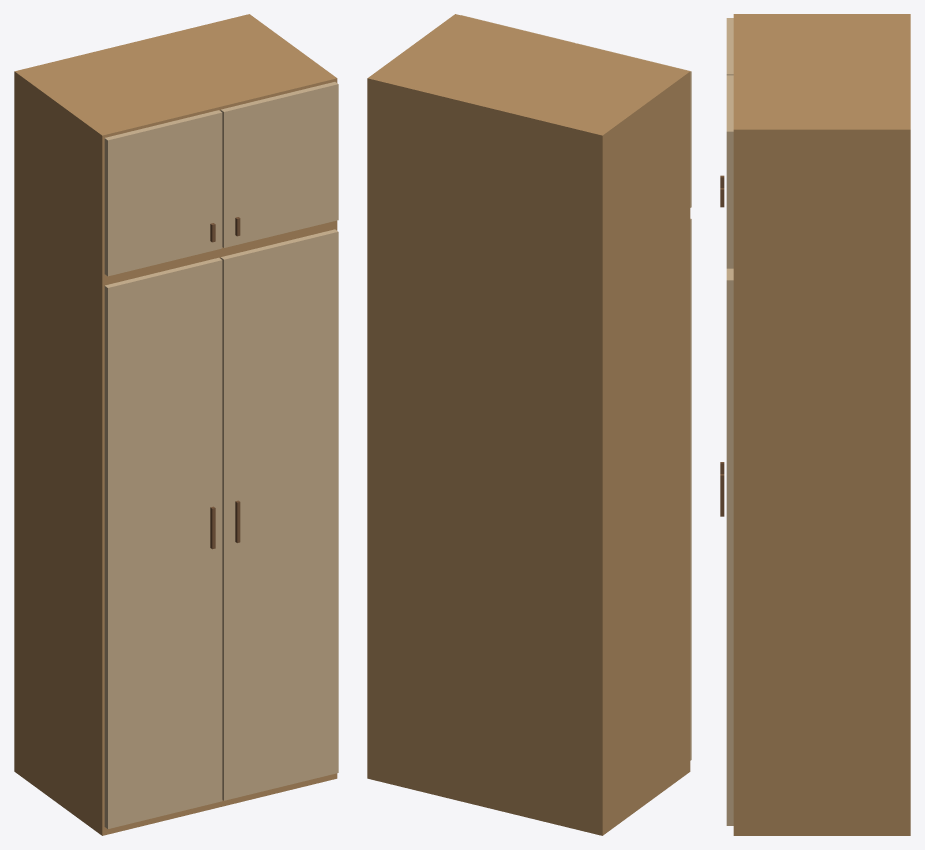
3 views of the same model, side by side, from view 1: azimuth 30°, elevation 25°; view 2: azimuth 150°, elevation 25°; view 3: azimuth 270°, elevation 25° (orthographic).
Visible parts, largest first — view 1: Doors, Carcass; view 2: Carcass, Doors; view 3: Carcass, Doors.
Part boxes in pixels (<box>): Doors: <box>104,82,338,828</box>; Carcass: <box>14,14,337,835</box>; Carcass: <box>367,14,690,835</box>; Doors: <box>461,15,691,760</box>; Carcass: <box>733,14,910,835</box>; Doors: <box>726,18,733,825</box>.
Bounding box in the file's own units: 0.85 × 2.42 × 0.591.
